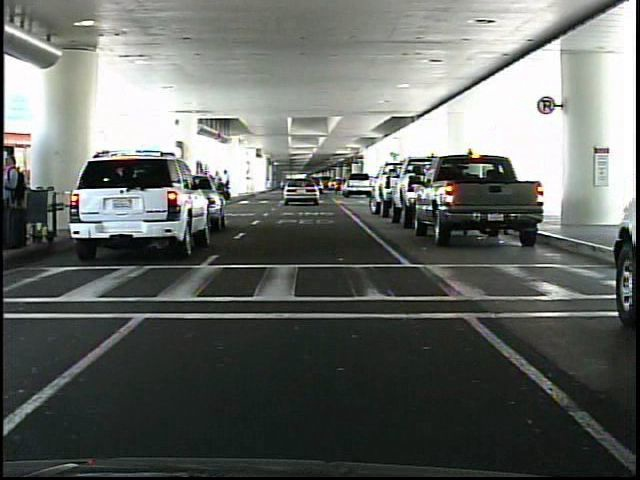person: (7, 152, 30, 255)
